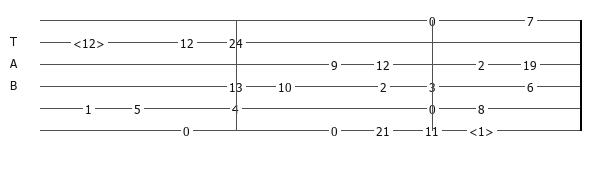0: (183, 124, 194, 137), (331, 124, 342, 137), (429, 102, 440, 115), (429, 14, 440, 27)
1: (85, 102, 96, 115)
10: (278, 80, 296, 93)
11: (425, 124, 443, 137)
12: (180, 36, 198, 49), (376, 58, 394, 71)
13: (229, 80, 247, 93)
19: (523, 58, 541, 71)
2: (380, 80, 391, 93), (478, 58, 489, 71)
21: (376, 124, 394, 137)
24: (229, 36, 247, 49)
3: (429, 80, 440, 93)
4: (232, 102, 243, 115)
5: (134, 102, 145, 115)
6: (527, 80, 538, 93)
7: (527, 14, 538, 27)
8: (478, 102, 489, 115)
9: (331, 58, 342, 71)
harmonic: (73, 36, 109, 49), (469, 124, 498, 137)
